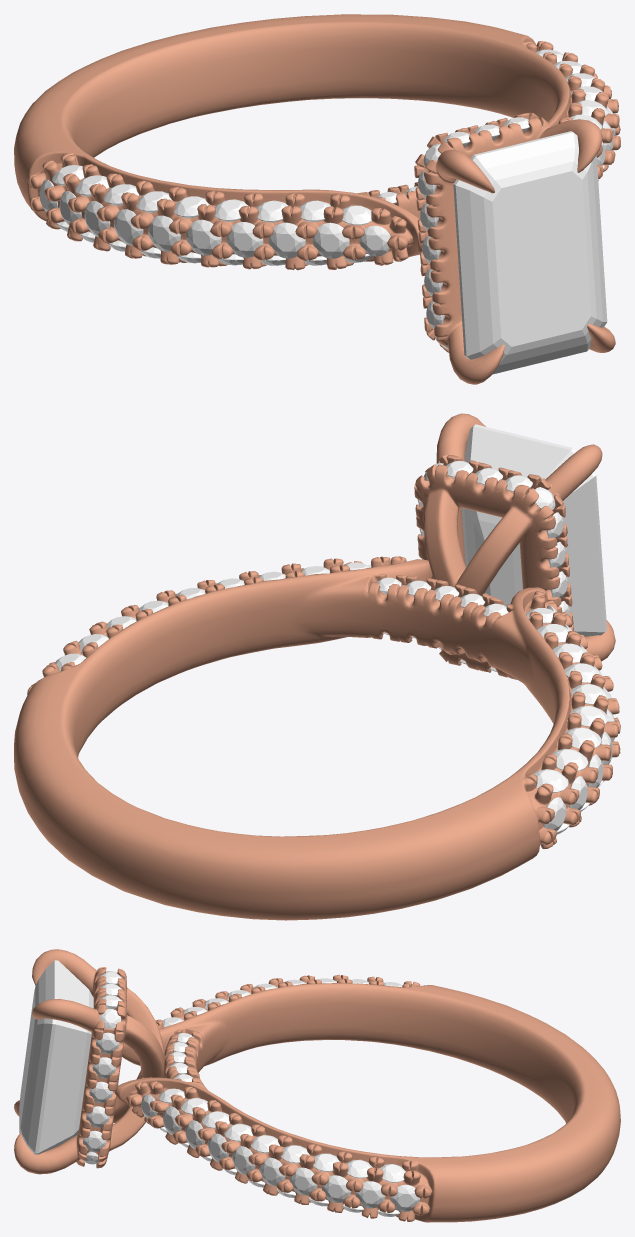
The model's file is 14k-rose-gold.glb.
3 renders of one model, top to bottom at view 1: azimuth 30°, elevation 25°; view 2: azimuth 150°, elevation 25°; view 3: azimuth 270°, elevation 25°, orthographic. The views are drawn at different scales.
Parts seen in each view (by area): view 1: metal (×2), Diamond_Emerald, Diamond_Round (×12); view 2: metal (×2), Diamond_Emerald; view 3: metal (×2), Diamond_Emerald, Diamond_Round (×7).
Part boxes in pixels (x1,y1,x2,y2): metal (×2): (14,14,620,384); Diamond_Emerald: (453,131,607,374); Diamond_Round (×12): (84,196,390,258); metal (×2): (14,413,620,920); Diamond_Emerald: (461,424,607,636); metal (×2): (14,949,620,1222); Diamond_Emerald: (19,960,93,1154); Diamond_Round (×7): (207,1133,419,1211).
Bounding box in the file's own units: 1.58 × 0.6366 × 2.
